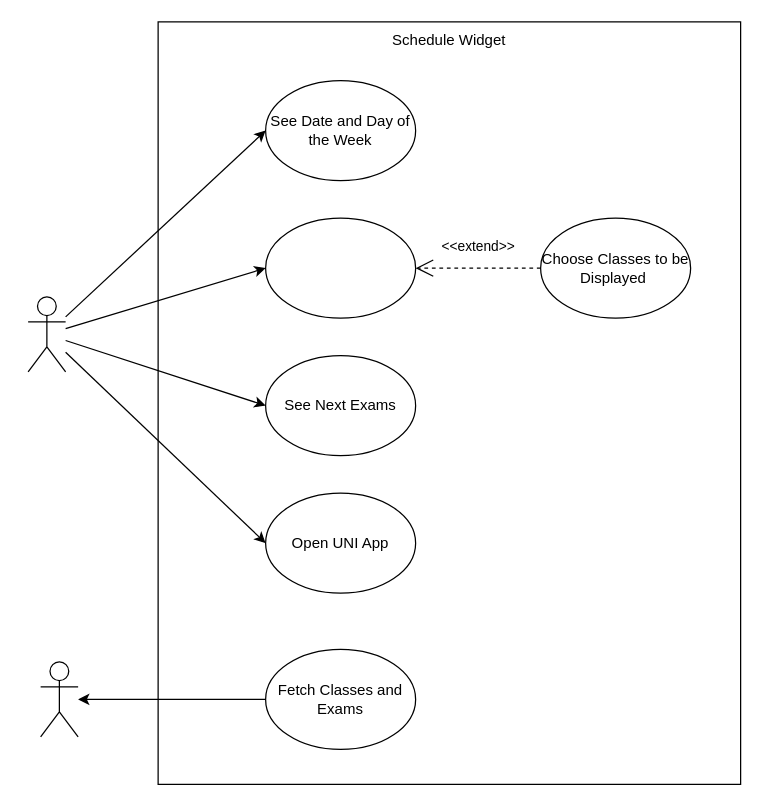
The diagram is 763 pixels wide and 806 high, and some of its shapes have lost their labels. Here are the shapes that lost their labels. From the top down, the centre of each, then its label:
[340,267]: See Classes
[46,334]: Student
[58,699]: Sigarra
